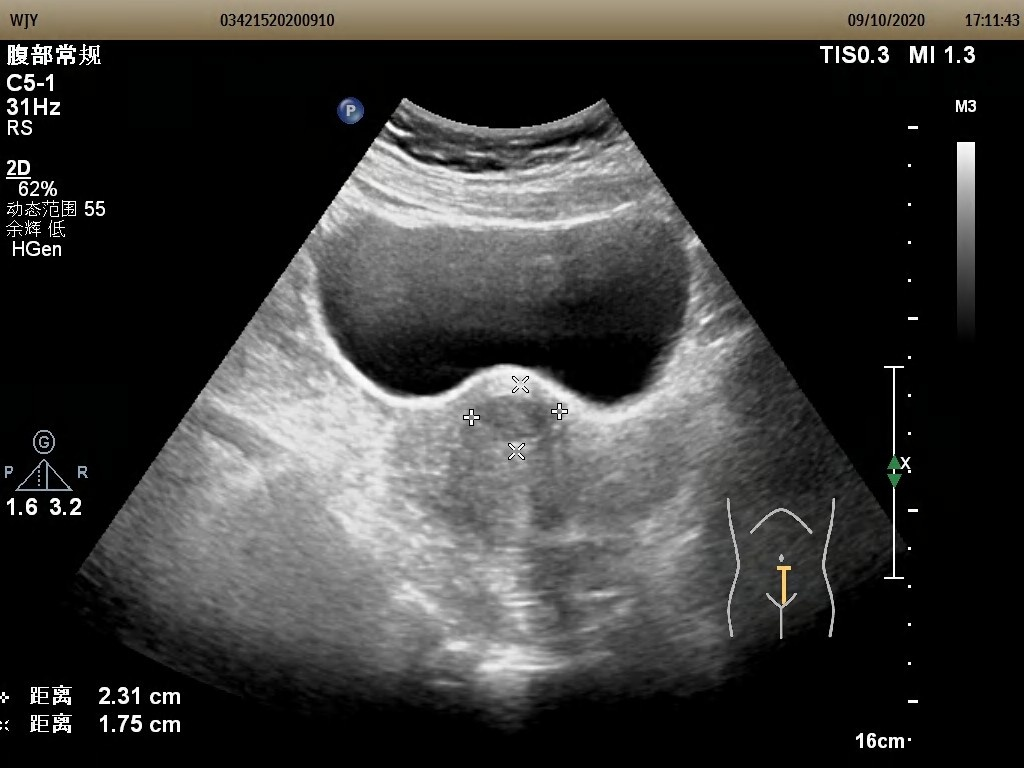肌瘤: (472, 400, 559, 441)
